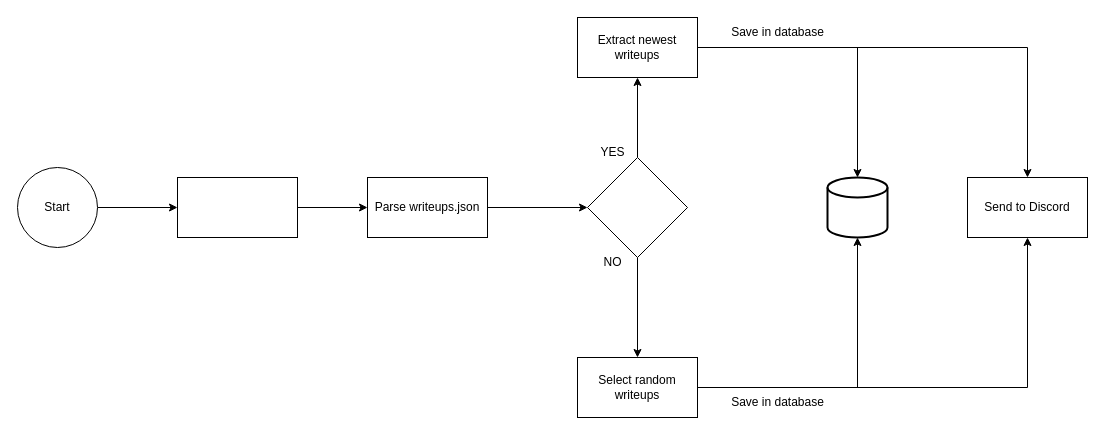
Some shapes in this 1105 by 435 pixel diagram are drawn without their labels. The box of each missing label's shape, as (x1, y1, x2, y2) in pixels:
Database: (826, 176, 888, 238)
Download writeups.json: (176, 176, 298, 238)
New writeups ?: (586, 156, 688, 258)
